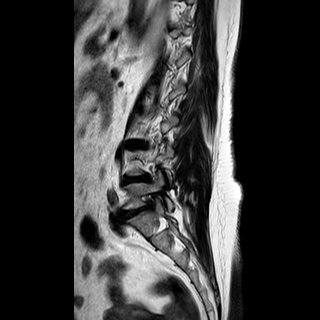LFS3: (137, 186, 163, 215)
